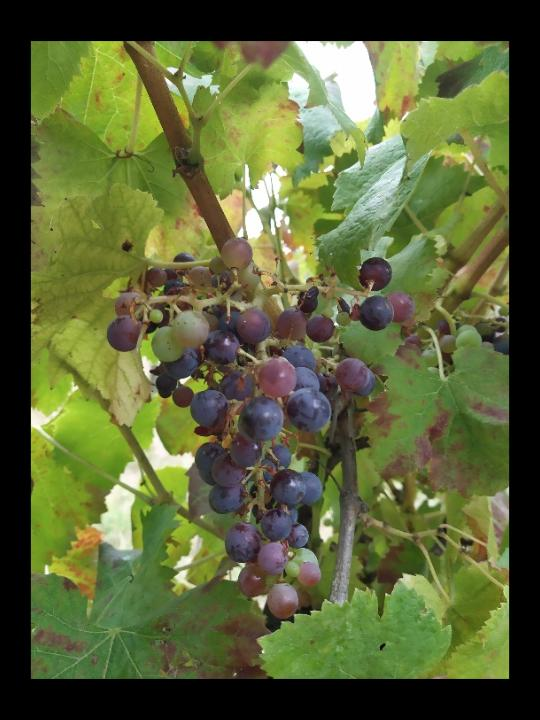grape: (109, 233, 411, 621)
